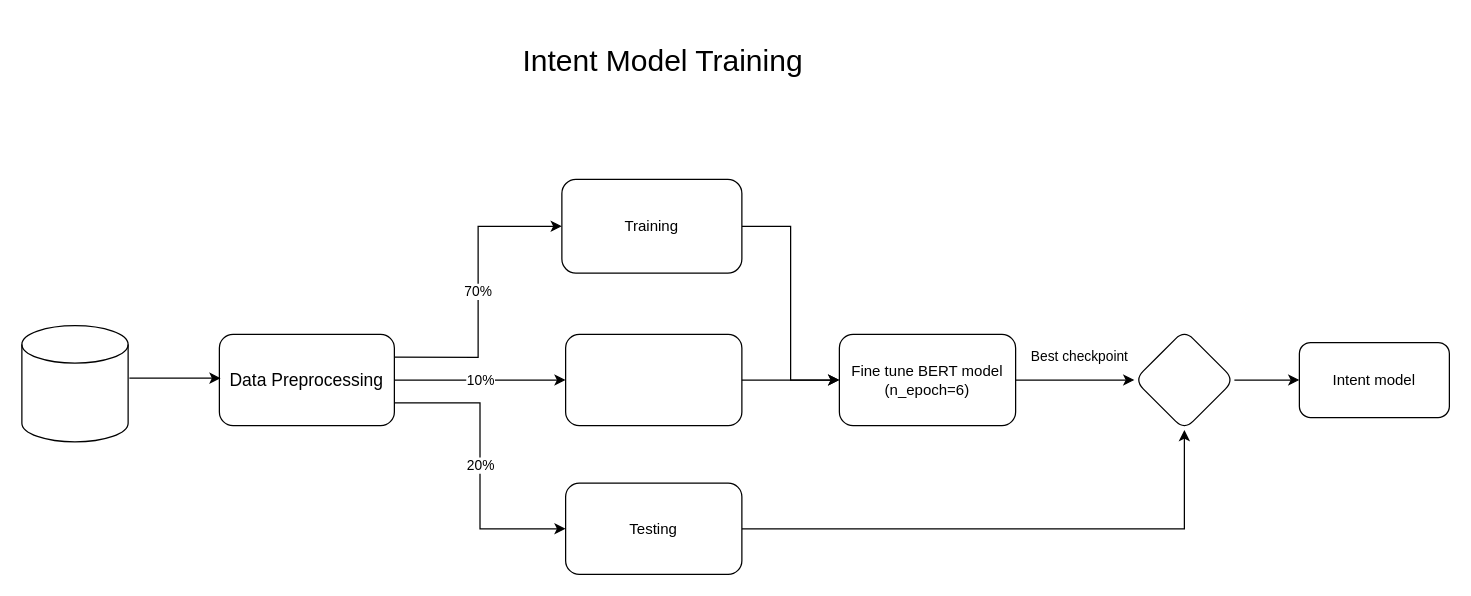
This 1471x596 diagram has some shape labels left out. Each missing label, with the centre of its shape:
"Banking dataset" goes at (74,383).
"Evaluation" goes at (1183,379).
"Validation" goes at (653,379).
